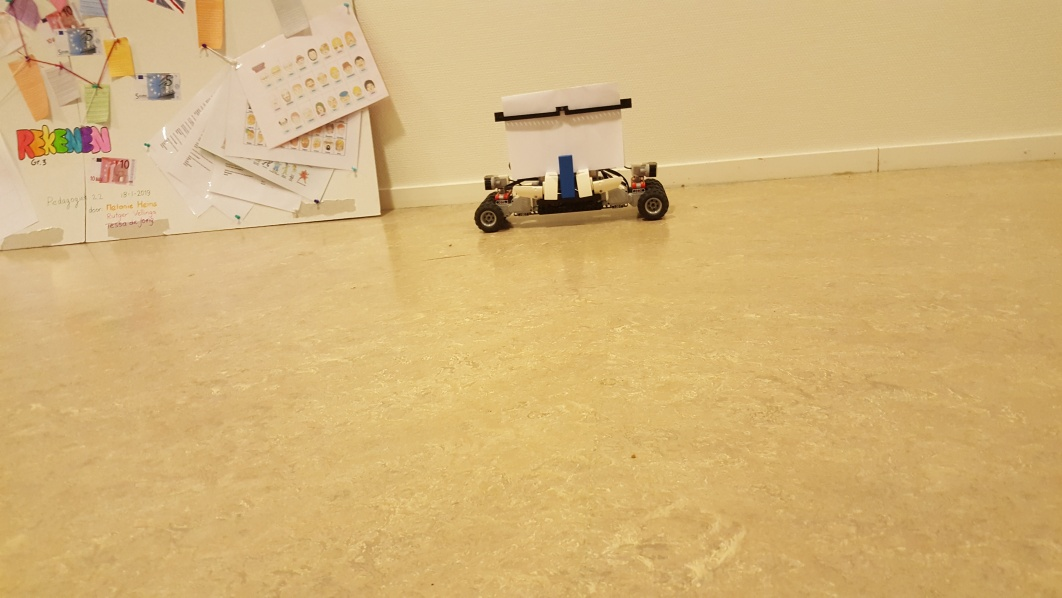car: (472, 75, 671, 232)
